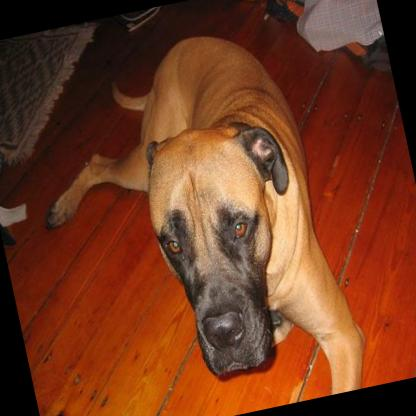bull_mastiff: (10, 10, 375, 416)
